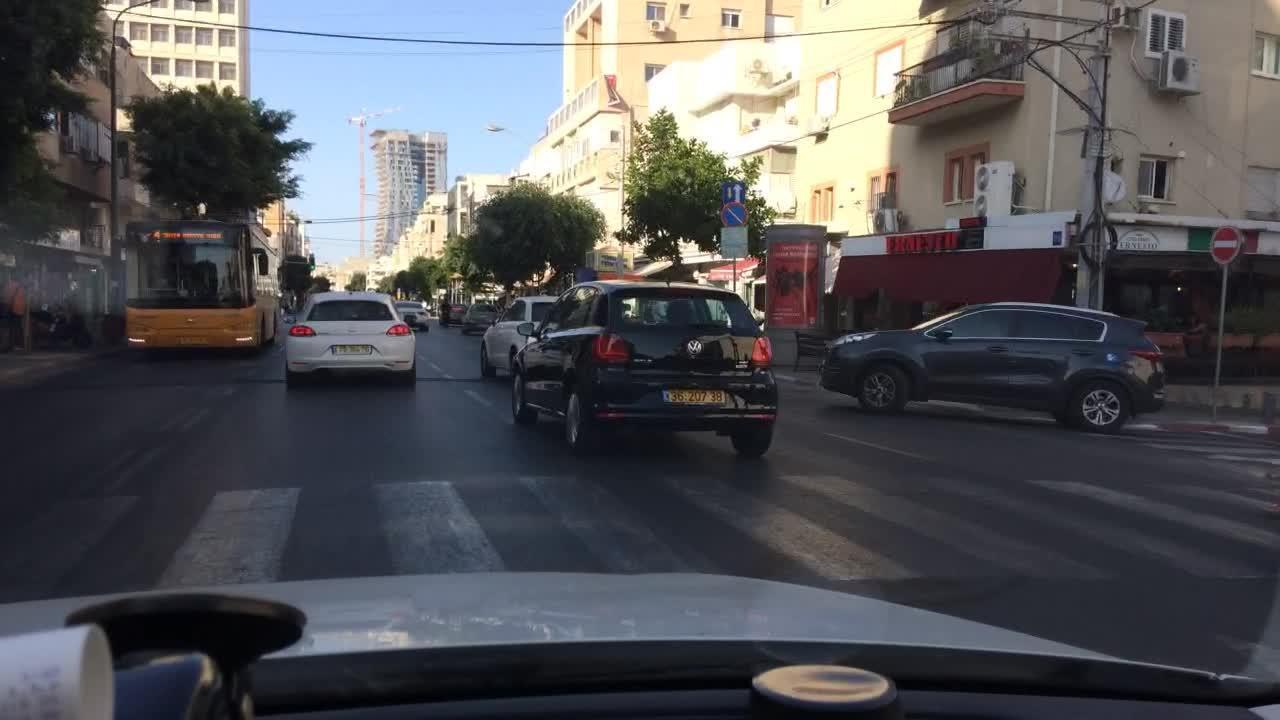Volkswagen: (682, 334, 709, 362)
